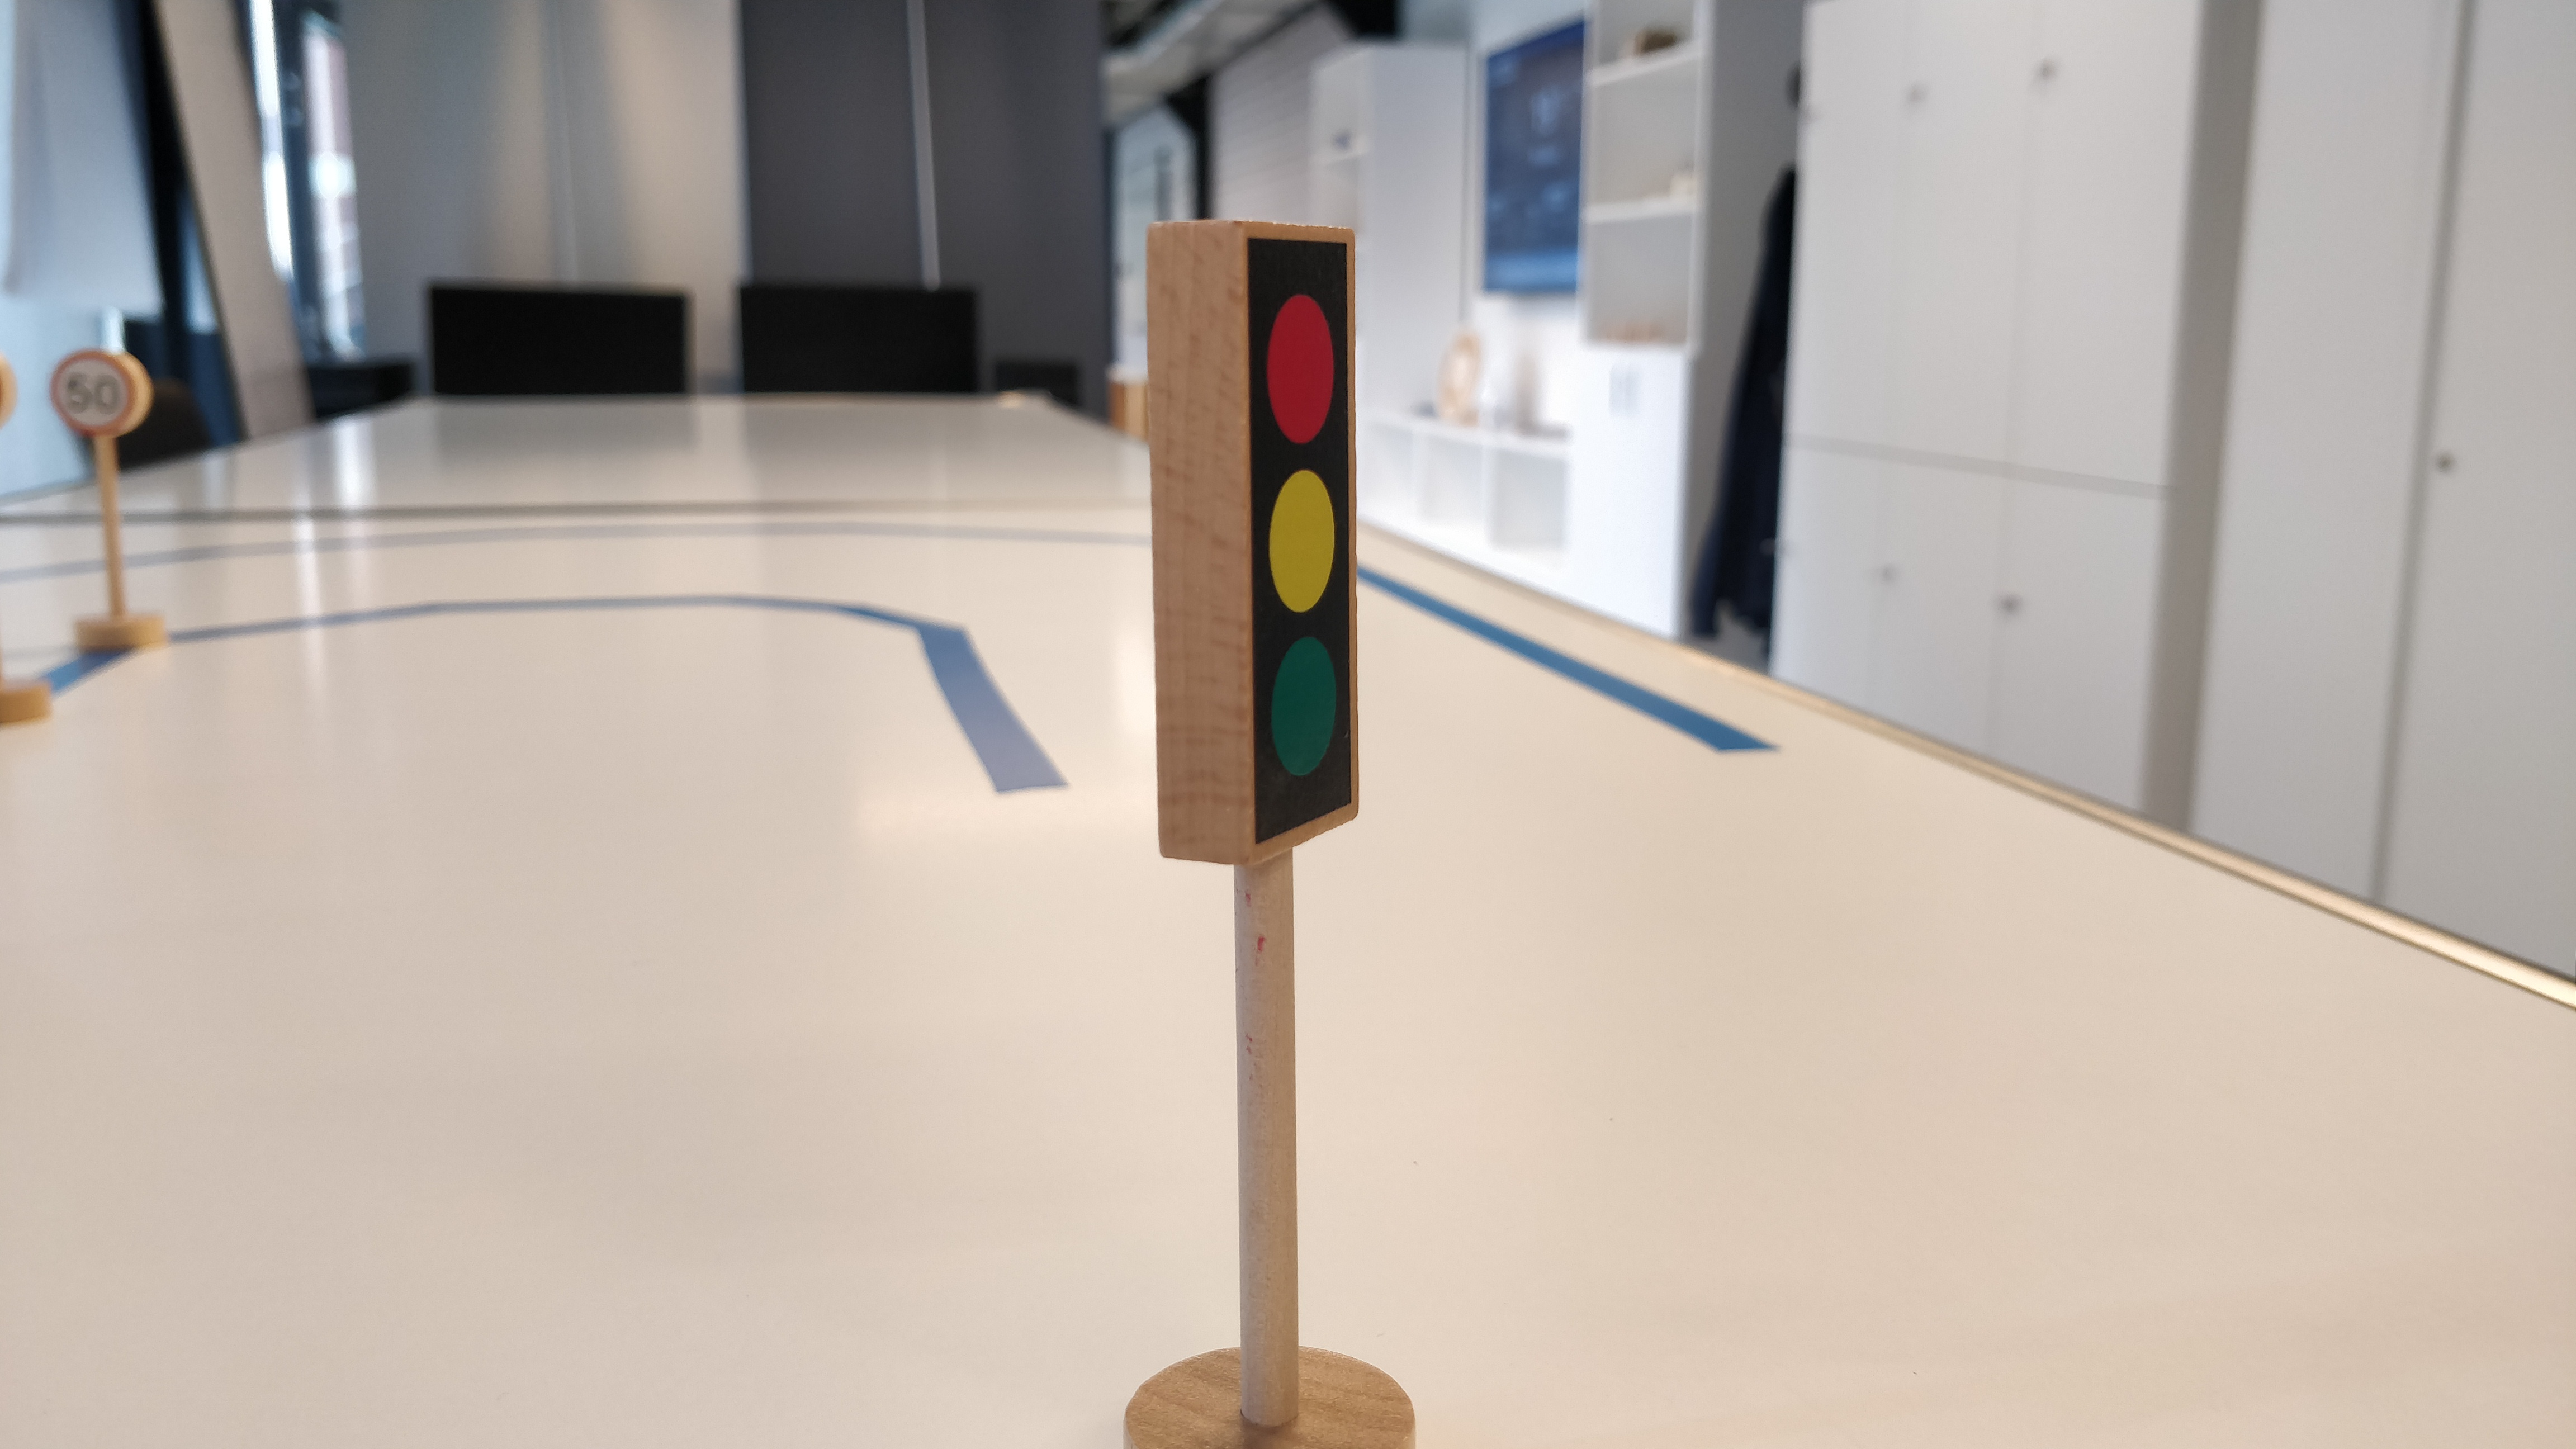Traffic Light: (1137, 214, 1370, 870)
